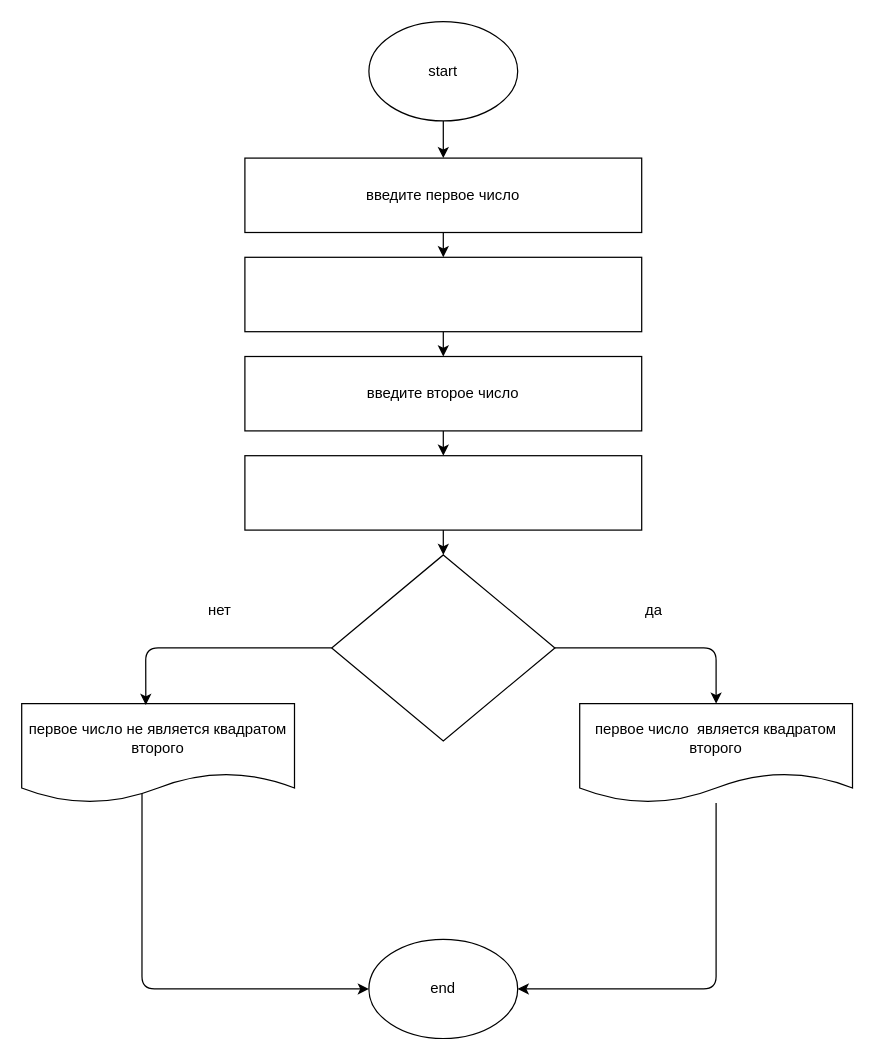
The diagram is 874 pixels wide and 1060 high, and some of its shapes have lost their labels. The centre of each missing label's shape, as x and y in pixels:
"if ( Sqrt(double num2)=num1" belongs at (x=442, y=647).
"num1" belongs at (x=443, y=294).
"num2" belongs at (x=443, y=492).
